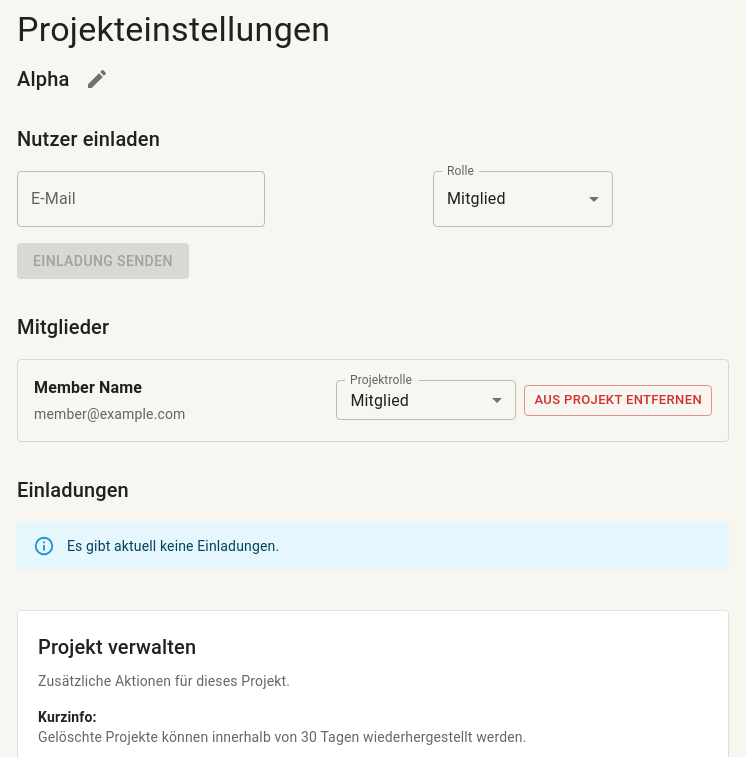
ProjectSettingsPage › prefers structured backend message for invitation errors and hides HTML details
Type "invitee@example.com" into the field labelled "E-Mail" at (141, 199), box [17,171,265,227]
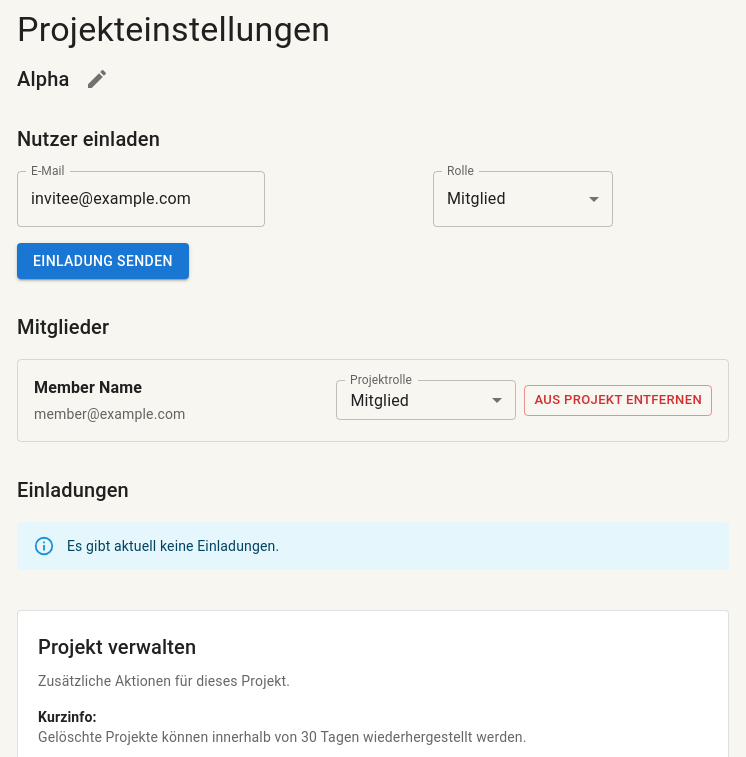
Click the button "Einladung senden" at (103, 261), box [17,243,189,280]
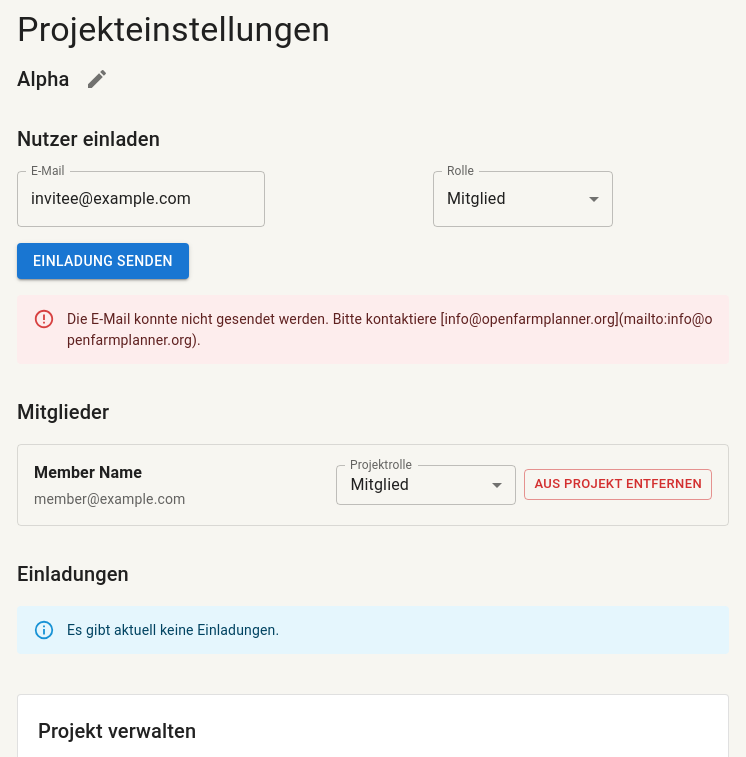
Result: the text "info@openfarmplanner.org" is shown at [67,312,713,348]
